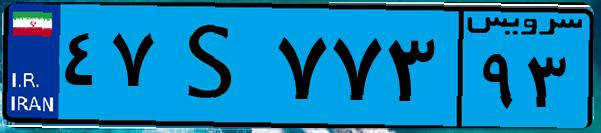3: (385, 28, 445, 110), (525, 38, 570, 115)
4: (57, 26, 110, 100)
7: (270, 28, 330, 110), (330, 28, 385, 110), (110, 28, 158, 98)
9: (475, 38, 525, 113)
S: (158, 12, 270, 120)
